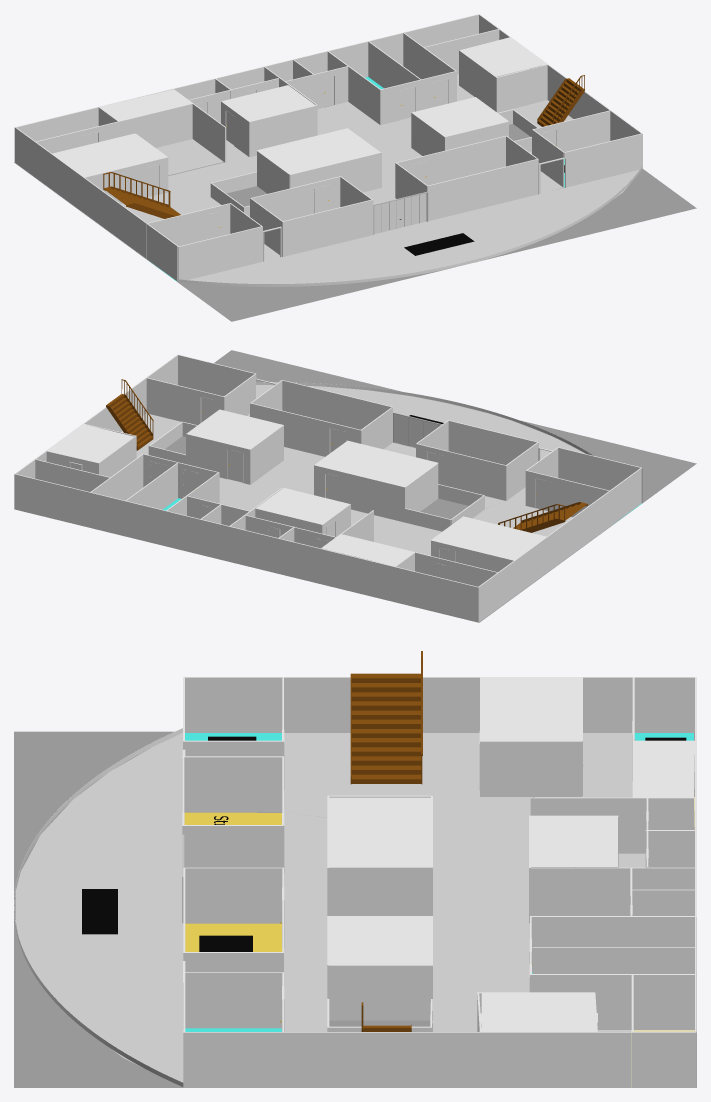
Rendered from C-block.obj.
3 views of the same model, one above another, from view 1: azimuth 30°, elevation 25°; view 2: azimuth 150°, elevation 25°; view 3: azimuth 270°, elevation 25° (orthographic). The views are drawn at different scales.
Parts seen in each view (by area): view 1: room_89_422, ground_1, room_87_420, wall_1_5, wall_58_346, wall_9_53, wall_48_287, wall_7_41, wall_45_269, room_70_397, wall_57_340, wall_56_335 (+46 smaller); view 2: wall_9_52, ground_1, wall_1_5, room_87_420, room_89_422, room_70_397, wall_58_347, wall_65_388, wall_30_178, wall_51_304, wall_56_334, wall_48_286 (+46 smaller); view 3: room_89_422, room_87_420, ground_1, wall_61_364, wall_1_4, room_85_418, room_88_421, room_70_397, wall_22_130, wall_12_71, wall_36_215, wall_4_23 (+31 smaller).
Part boxes in pixels (x1,y1,x2,y2): room_89_422: (187,170,638,283); ground_1: (14,104,696,321); room_87_420: (168,74,573,196); wall_1_5: (34,142,177,280); wall_58_346: (427,159,538,220); wall_9_53: (16,51,327,141); wall_48_287: (283,200,373,256); wall_7_41: (36,104,192,153); wall_45_269: (178,227,262,279); room_70_397: (258,129,379,174); wall_57_340: (564,134,642,187); wall_56_335: (397,136,505,185); wall_9_52: (165,511,478,622); ground_1: (14,350,696,622); wall_1_5: (498,468,641,607); room_87_420: (121,413,441,555); room_89_422: (256,385,584,459); room_70_397: (316,441,437,486); wall_58_347: (282,380,391,429); wall_65_388: (14,474,90,527); wall_30_178: (314,465,404,522); wall_51_304: (416,444,506,500); wall_56_334: (250,403,361,456); wall_48_286: (448,421,536,464); room_89_422: (15,732,184,1082); room_87_420: (432,797,645,1031); ground_1: (14,731,696,1087); wall_61_364: (283,1032,631,1087); wall_1_4: (185,677,632,732); room_85_418: (284,733,481,817); room_88_421: (284,811,327,1031); room_70_397: (329,797,430,866); wall_22_130: (530,975,694,1029); wall_12_71: (530,868,694,915); wall_36_215: (328,965,432,1020); wall_4_23: (480,741,581,796).
Bounding box in the file's own units: 3376 × 362 × 2734.
Materials: 38 (21 with a texture image).
